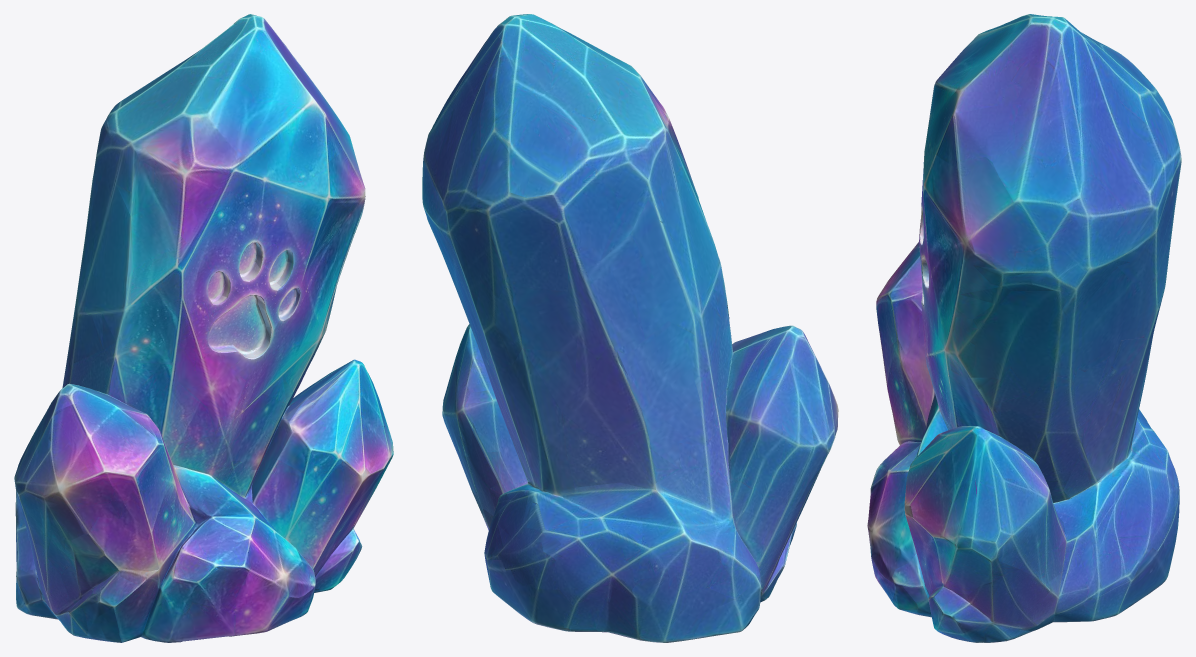
Rendered from crystal.glb.
The picture shows the model from 3 angles, left to right: view 1: azimuth 30°, elevation 25°; view 2: azimuth 150°, elevation 25°; view 3: azimuth 270°, elevation 25°; orthographic projection. The views are drawn at different scales.
Parts seen in each view (by area): view 1: output_unwrapped; view 2: output_unwrapped; view 3: output_unwrapped.
Part boxes in pixels (x1,y1,x2,y2): output_unwrapped: (14, 14, 393, 642); output_unwrapped: (422, 14, 838, 642); output_unwrapped: (867, 14, 1181, 642).
Size of the model in its own units: 1.37 by 1.9 by 0.9012.
Materials: 1 (1 with a texture image).
